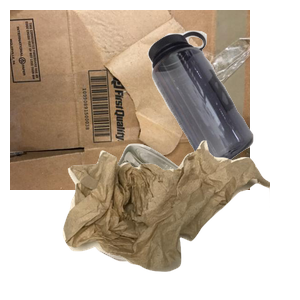cardboard: (10, 10, 250, 190)
glass: (85, 141, 275, 300)
plastic: (145, 28, 300, 192)
trash: (60, 138, 300, 300)
